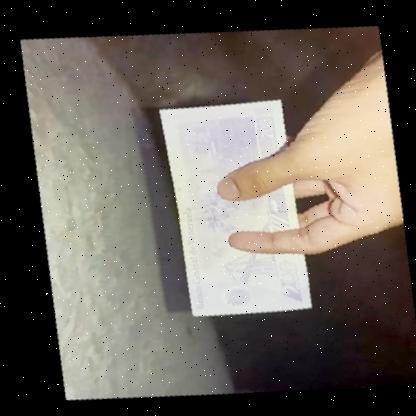two_hundred-back-vef: (133, 82, 332, 330)
